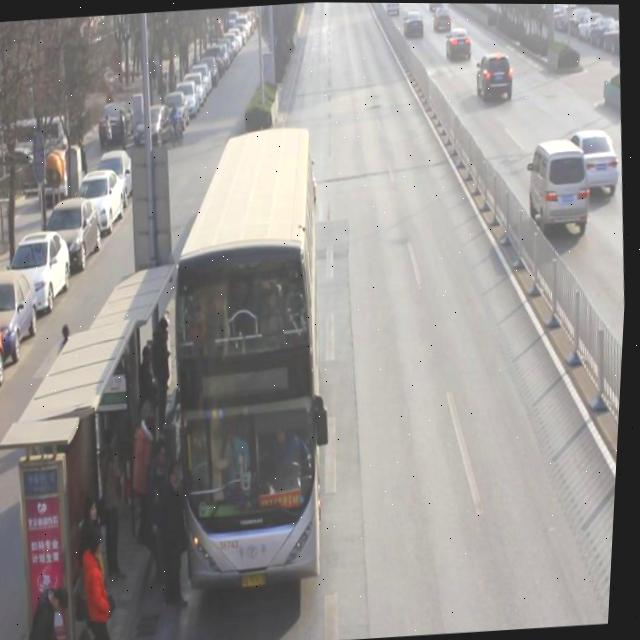car: (263, 128, 321, 198), (569, 121, 621, 195), (475, 44, 518, 97), (445, 20, 474, 58), (402, 4, 427, 34), (432, 3, 454, 28), (385, 2, 401, 11)
truck: (524, 130, 597, 234)
van: (158, 124, 346, 576)
